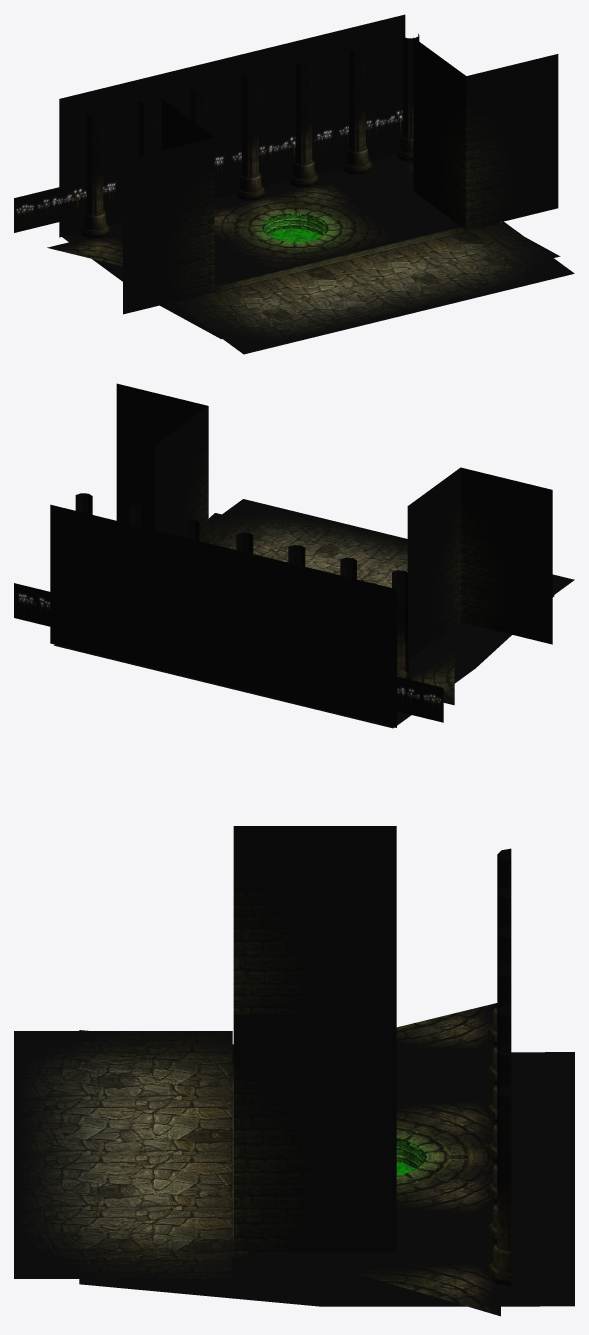
Rendered from UMK3iOSNoobsDorfen.glb.
3 renders of one model, top to bottom at view 1: azimuth 30°, elevation 25°; view 2: azimuth 150°, elevation 25°; view 3: azimuth 270°, elevation 25°, orthographic. The views are drawn at different scales.
Visible parts, largest first — view 1: 1_backfloor, 14_NewFloor, 0_Object082, Plane; view 2: 1_backfloor, 14_NewFloor; view 3: 14_NewFloor, 1_backfloor.
Part boxes in pixels (<box>): 1_backfloor: <box>14,14,560,339</box>; 14_NewFloor: <box>123,37,574,354</box>; 0_Object082: <box>213,226,476,292</box>; Plane: <box>268,228,322,242</box>; 1_backfloor: <box>14,493,554,728</box>; 14_NewFloor: <box>116,383,574,659</box>; 14_NewFloor: <box>14,826,396,1278</box>; 1_backfloor: <box>79,848,574,1316</box>.
Bounding box in the file's own units: 23.39 × 8.67 × 16.99.
4 materials, 4 textured.
